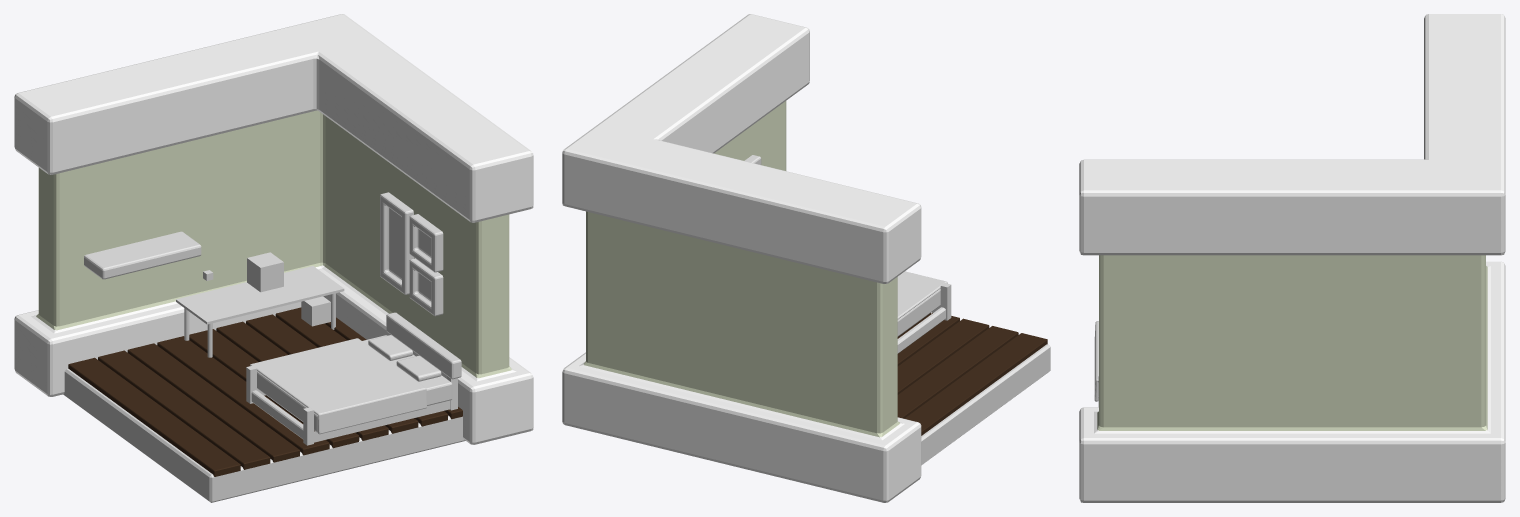
File: myroom.gltf
3 views of the same model, side by side, from view 1: azimuth 30°, elevation 25°; view 2: azimuth 150°, elevation 25°; view 3: azimuth 270°, elevation 25° (orthographic). The views are drawn at different scales.
Parts seen in each view (by area): view 1: walls, floor boards, floor, blanket, frames, desktop, shelf, baseboard, headboard, matress, pillows, monitor (+3 smaller); view 2: walls, floor boards, floor, blanket, matress, baseboard; view 3: walls.
Part boxes in pixels (<box>): walls: <box>14,14,533,444</box>; floor boards: <box>68,307,462,476</box>; floor: <box>63,368,465,502</box>; blanket: <box>250,338,426,434</box>; frames: <box>380,192,443,316</box>; desktop: <box>176,266,344,324</box>; shelf: <box>84,231,201,279</box>; baseboard: <box>251,389,450,442</box>; headboard: <box>386,312,461,379</box>; matress: <box>257,335,452,432</box>; pillows: <box>368,335,441,381</box>; monitor: <box>247,252,283,292</box>; walls: <box>562,14,921,502</box>; floor boards: <box>897,312,1047,435</box>; floor: <box>921,344,1050,465</box>; blanket: <box>897,271,947,319</box>; matress: <box>897,288,940,336</box>; baseboard: <box>897,306,945,353</box>; walls: <box>1079,14,1505,502</box>.
Size of what is drawn, in the model's own units: 2.47 by 2.01 by 2.47.
